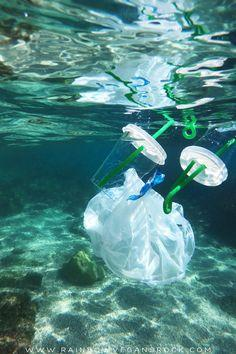LDPE: (81, 167, 198, 290)
